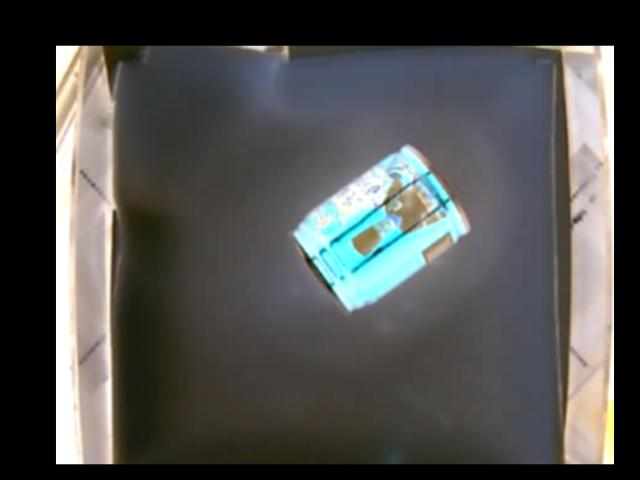Bottle: (290, 144, 468, 313)
